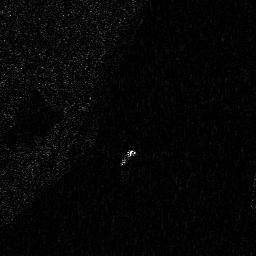ship: (120, 148, 136, 166)
